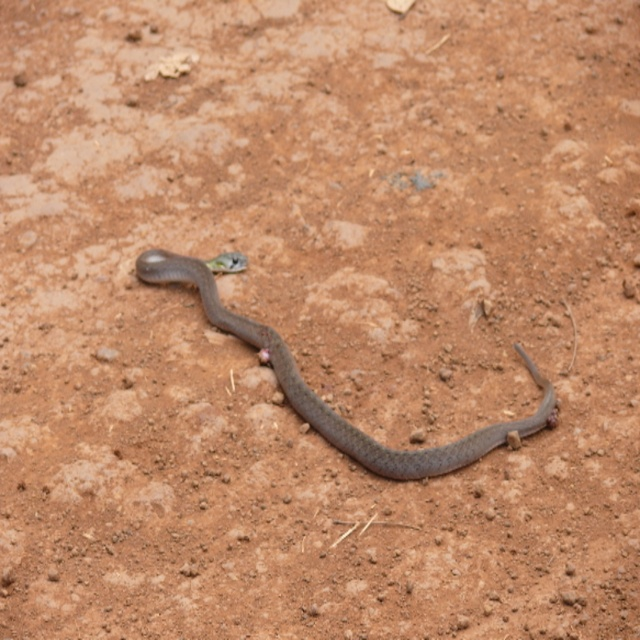Snake: (132, 234, 572, 498)
